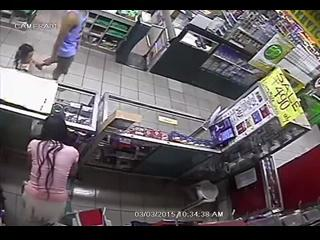Normal: (20, 114, 80, 225), (34, 11, 89, 82)
